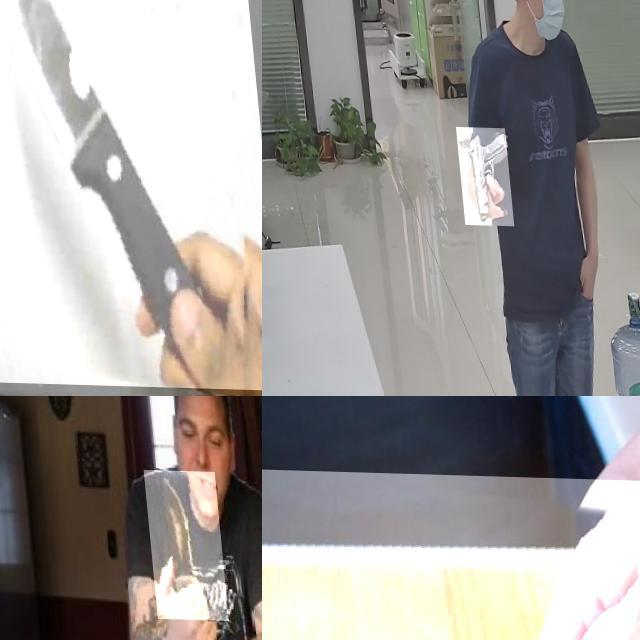-: (0, 0, 262, 388), (262, 467, 640, 640), (140, 468, 222, 620)
gun-knife-thesis - v11 Yolov5 augmented: (452, 126, 508, 224)
